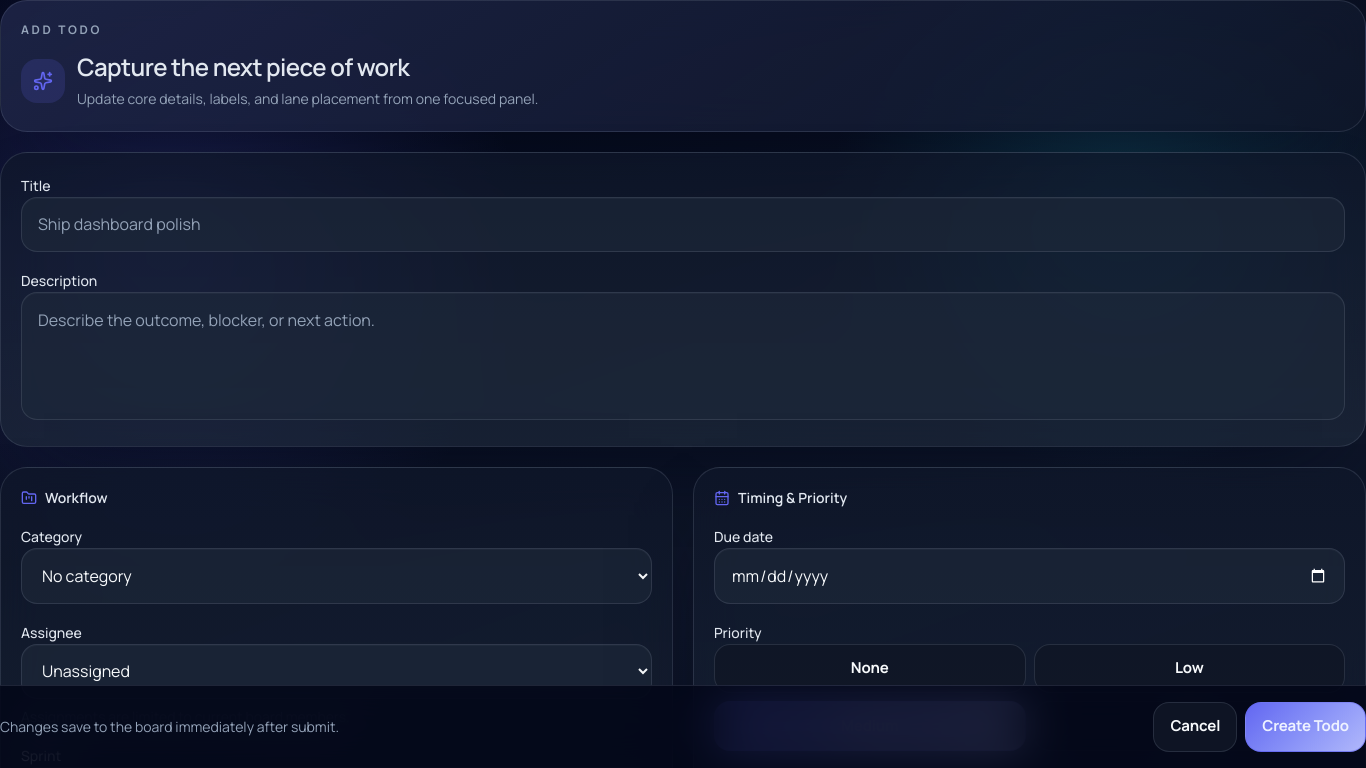
TodoDrawer › blocks submit when the title is empty
Click the button "Create Todo": (1306, 727) 1245,702 -> 1365,752
(page scrolled)
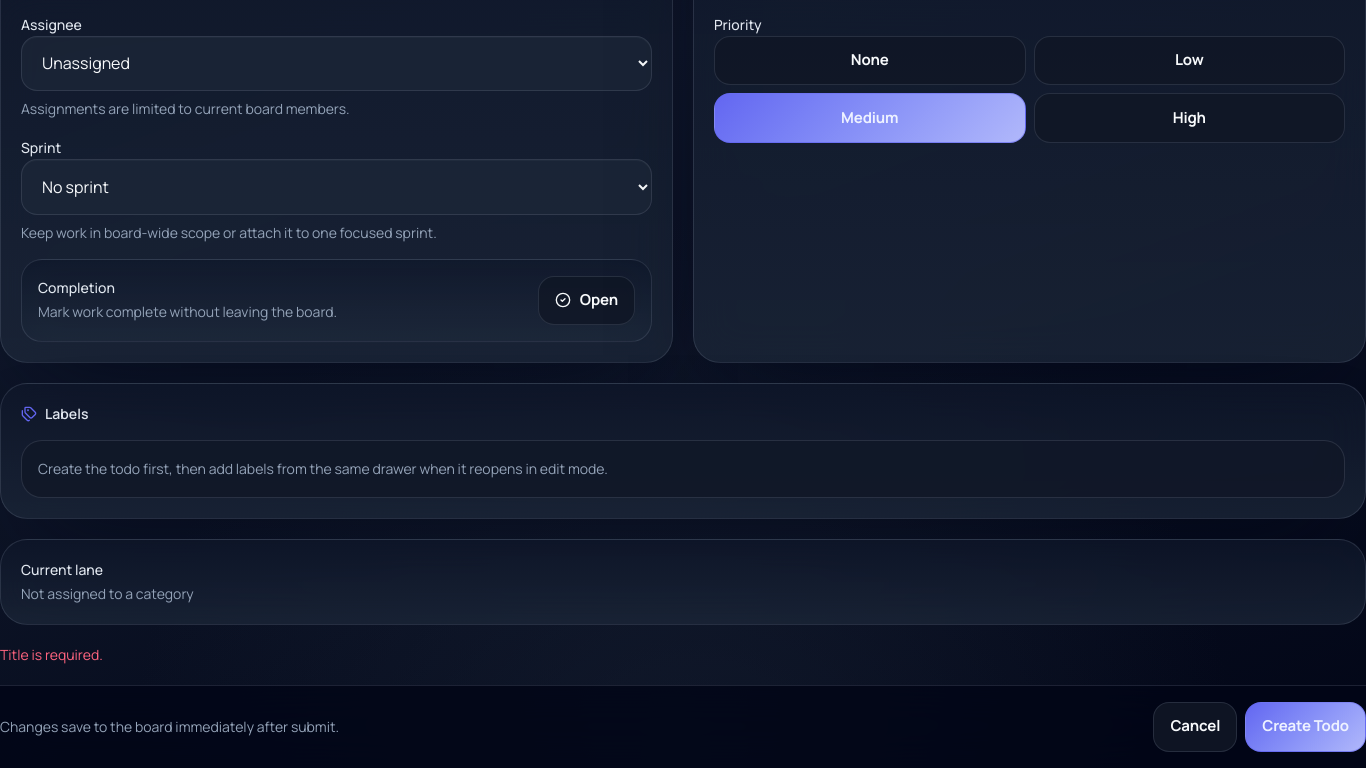
Now the text "Title is required." is shown, box 0,645 -> 103,664
